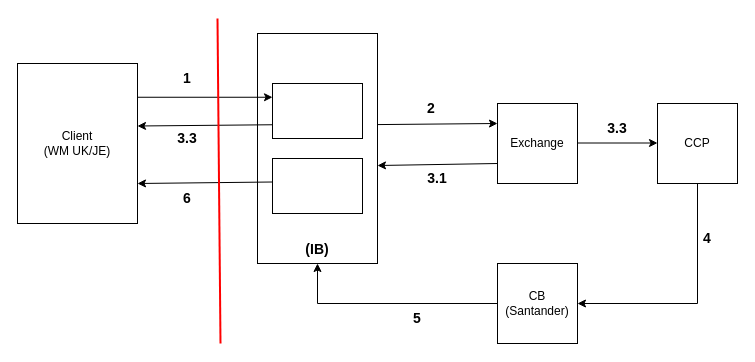
Some shapes in this 755 by 362 pixel diagram are drawn without their labels. Each missing label, with the centre of its shape:
SKC: point (317, 186)
SKE: point (317, 110)
